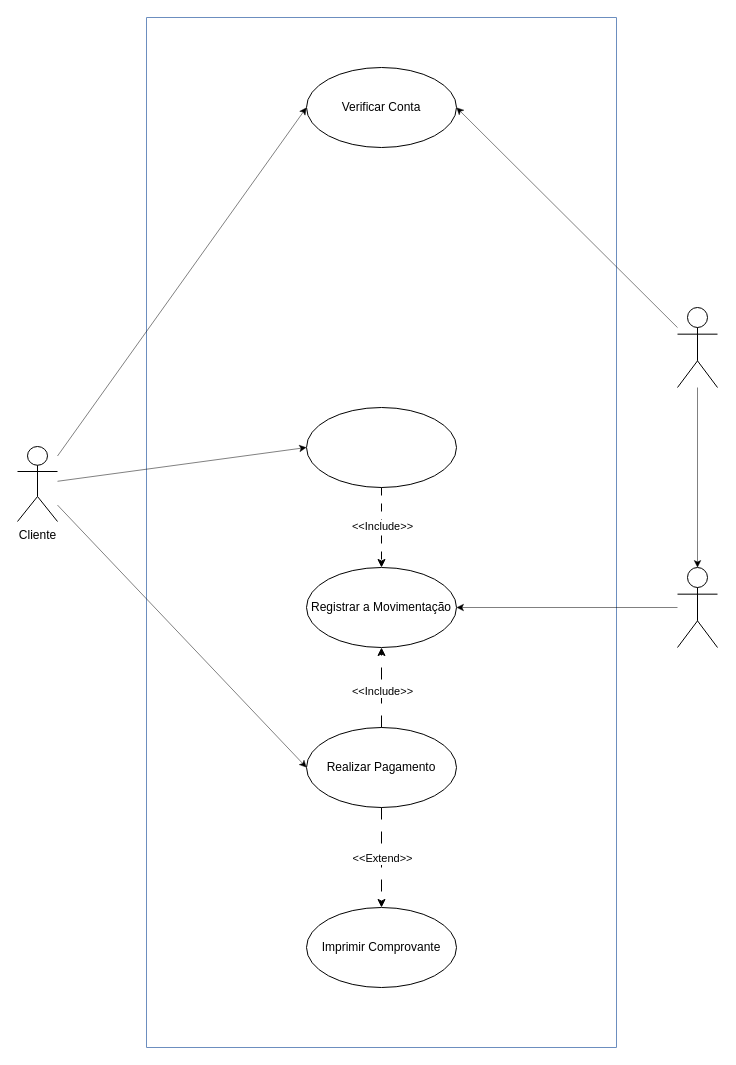
Image size: 736x1065. Some labels were removed from this diagram. The centre of each missing label's shape, as x and y in pixels:
Banco: point 697,347
Gerente: point 697,607
Realizar Saque: point 381,447
